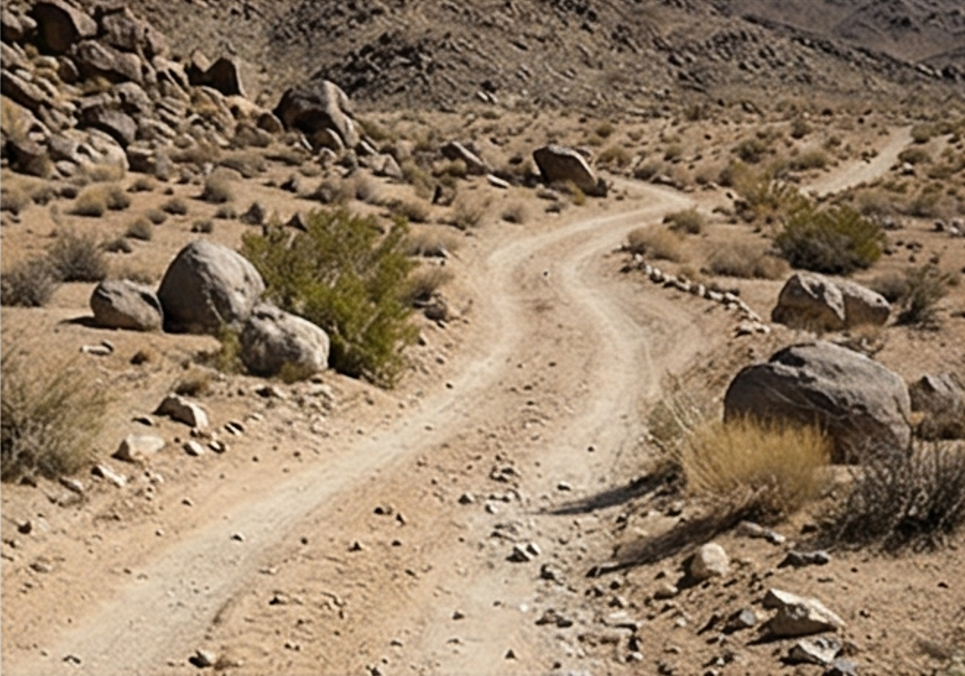rocks: (91, 240, 329, 374), (725, 341, 913, 461), (773, 272, 889, 329), (286, 81, 353, 141), (534, 144, 605, 194)
